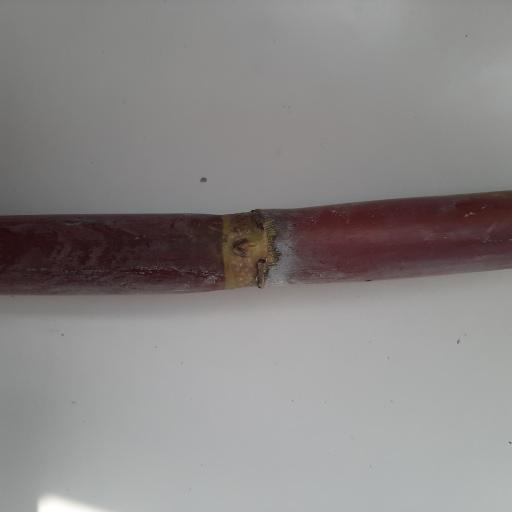Bud: (231, 236, 257, 260)
